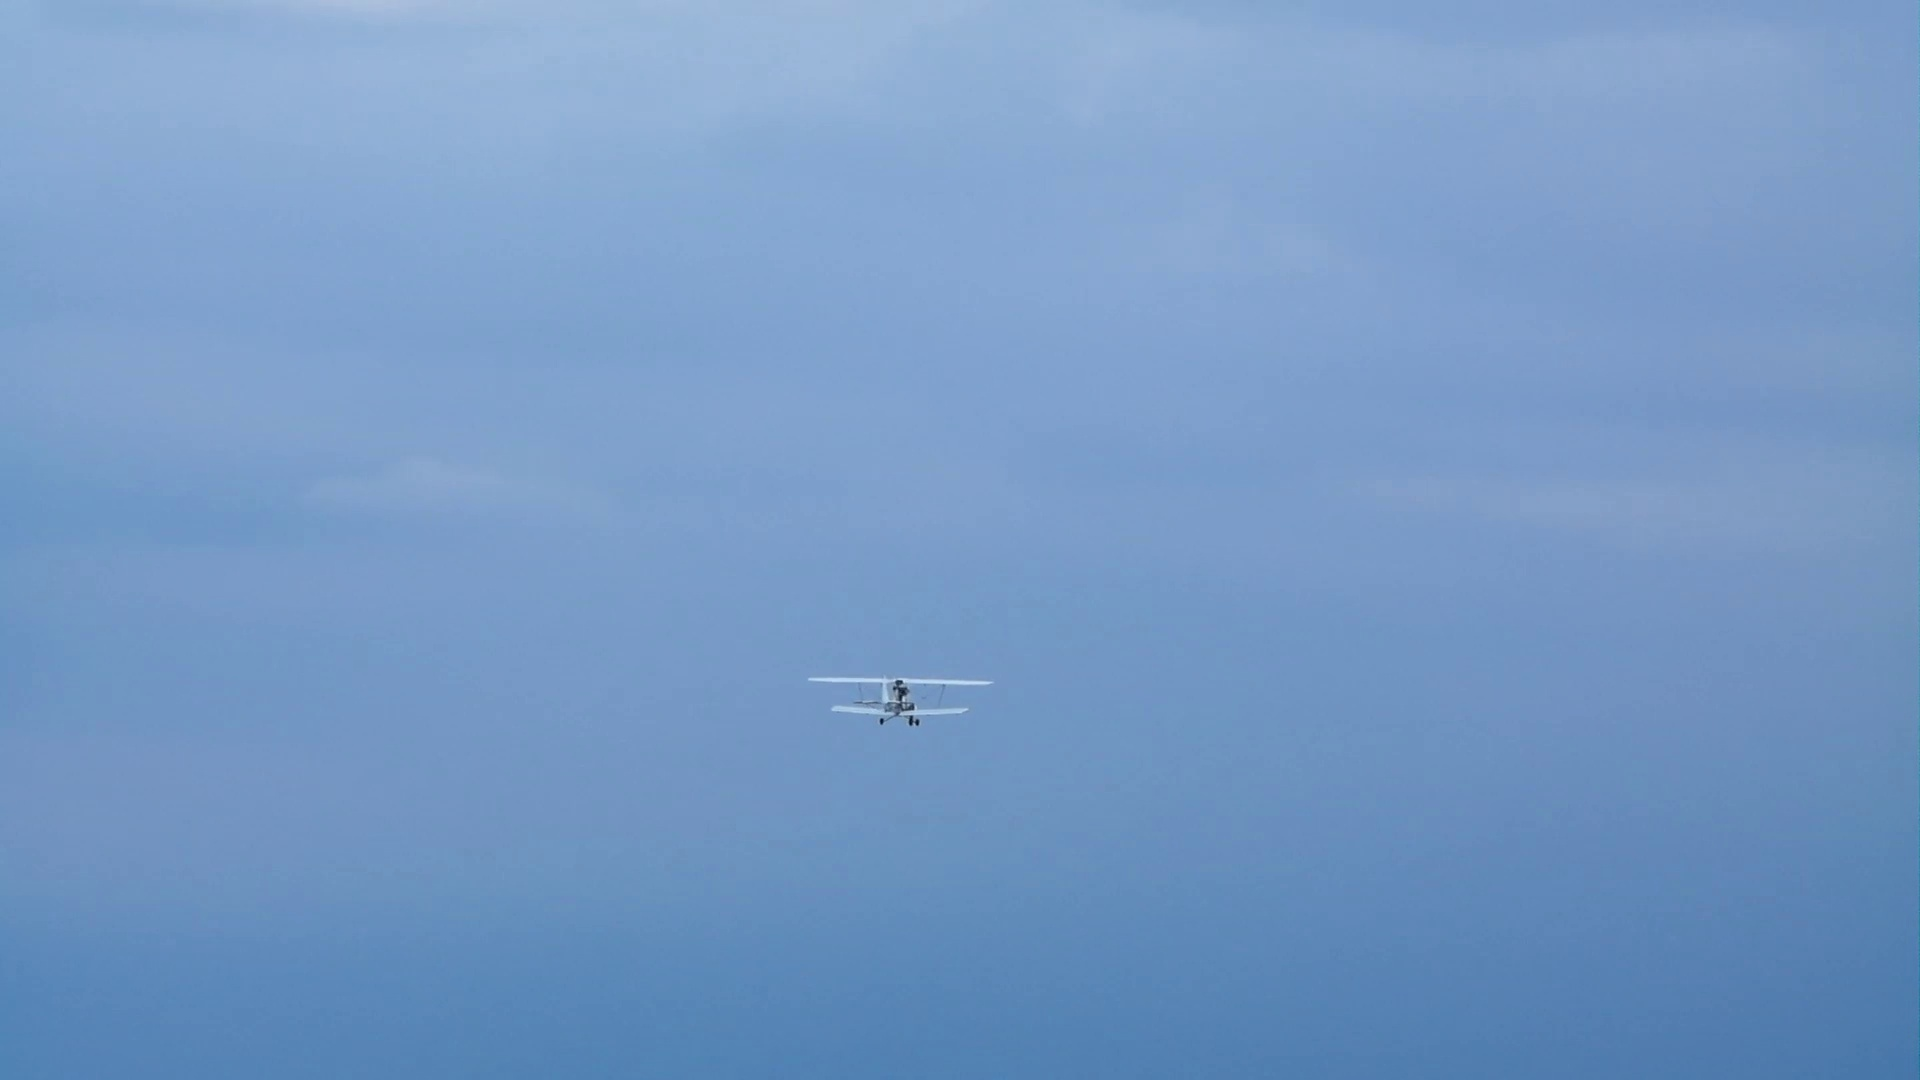plane: (808, 673, 996, 727)
